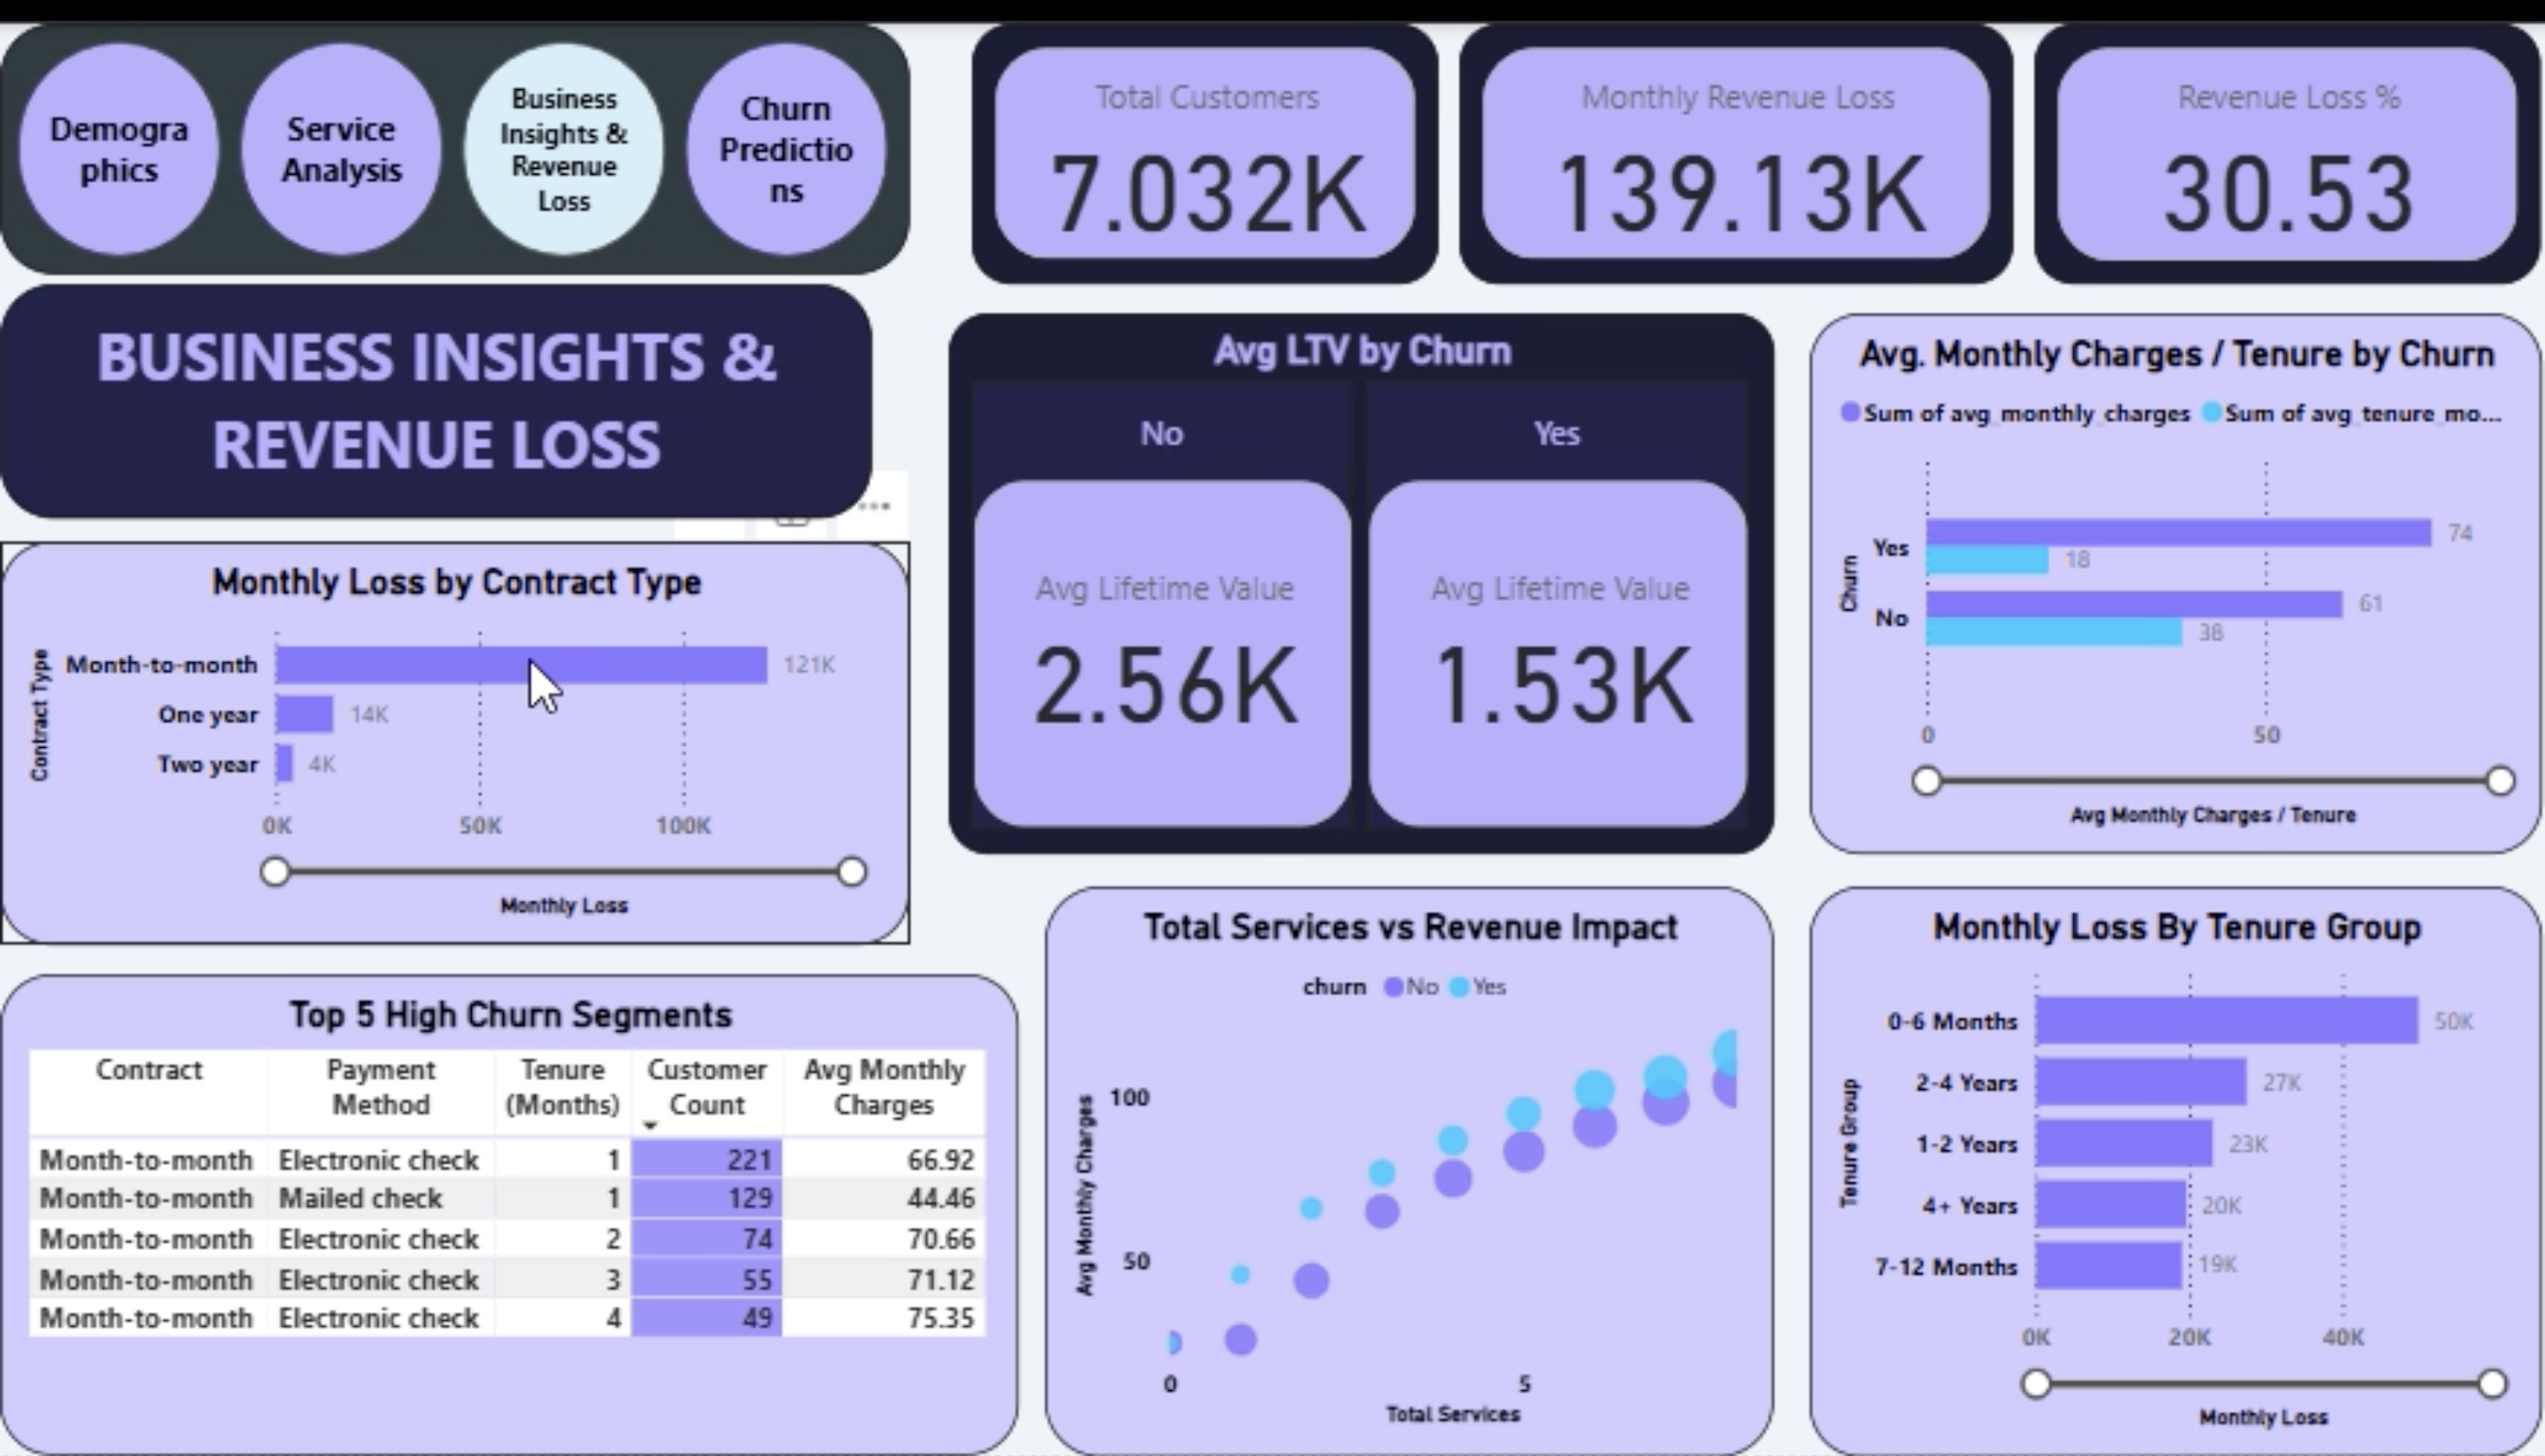

The dashboard page shown, as its layout file describes it:
{"tool":"powerbi","page":{"name":"Business Insights & Revenue Loss","canvas":[1280,720],"ordinal":2},"visuals":[{"type":"cardVisual","fields":{"Data":["Sum(total_monthly_revenue_loss.monthly_revenue_loss)"]},"box":[734.7,0,279.2,130.8],"z":0},{"type":"cardVisual","fields":{"Data":["CountNonNull(cleaned_telco_churn.customerID)"]},"box":[489.3,0,235.1,130.8],"z":1000},{"type":"cardVisual","fields":{"Data":["Sum(total_monthly_revenue_loss.revenue_loss_percentage)"]},"box":[1024.7,0,255.3,131],"z":2000},{"type":"clusteredBarChart","title":"Monthly Loss By Tenure Group","fields":{"Category":["monthly_loss_by_tenure_group.tenure_group"],"Y":["Sum(monthly_loss_by_tenure_group.monthly_loss)"]},"box":[911,433.5,368.8,286.5],"z":3000},{"type":"clusteredBarChart","title":"Monthly Loss by Contract Type","fields":{"Category":["monthly_contract_revenue_loss.contract"],"Y":["Sum(monthly_contract_revenue_loss.monthly_revenue_loss)"]},"box":[0,260.1,458.4,202.8],"z":4000},{"type":"tableEx","title":"Top 5 High Churn Segments","fields":{"Values":["top5_high_churn_segments.contract","top5_high_churn_segments.paymentmethod","top5_high_churn_segments.tenure","top5_high_churn_segments.customer_count","top5_high_churn_segments.avg_monthly_charges"]},"box":[0,477.6,512.8,242.4],"z":5000},{"type":"clusteredBarChart","title":"Avg. Monthly Charges / Tenure by Churn","fields":{"Category":["avg_monthly_total_charges_tenure.churn"],"Y":["Sum(avg_monthly_total_charges_tenure.avg_monthly_charges)","Sum(avg_monthly_total_charges_tenure.avg_tenure_months)"]},"box":[911,145.5,368.8,271.8],"z":6000},{"type":"cardVisual","title":"Avg LTV by Churn","fields":{"Data":["Sum(avg_lifetime_value_by_churn.avg_lifetime_value)"],"Rows":["avg_lifetime_value_by_churn.churn"]},"box":[477.6,145.5,415.8,271.8],"z":7000},{"type":"scatterChart","title":"Total Services vs Revenue Impact","fields":{"X":["bundle_vs_churn_charges_tenure.totalservices"],"Y":["bundle_vs_churn_charges_tenure.avg_monthly_charges"],"Size":["Sum(bundle_vs_churn_charges_tenure.avg_tenure)"],"Series":["bundle_vs_churn_charges_tenure.churn"]},"box":[526,433.5,367.3,286.5],"z":8000},{"type":"textbox","box":[0,130.8,439.3,117.6],"z":9000},{"type":"pageNavigator","box":[0,0,458.4,126.4],"z":9001}]}

Visuals, with their boxes in screenshot pixels (x1, y1, x2, y2), scaled from the page's 1280x720 canvas onto the 2545x1456 screenshot:
cardVisual - Sum(total_monthly_revenue_loss.monthly_revenue_loss): 1461:0:2016:265
cardVisual - CountNonNull(cleaned_telco_churn.customerID): 973:0:1440:265
cardVisual - Sum(total_monthly_revenue_loss.revenue_loss_percentage): 2038:0:2544:265
"Monthly Loss By Tenure Group" clusteredBarChart: 1811:877:2544:1455
"Monthly Loss by Contract Type" clusteredBarChart: 0:526:912:936
"Top 5 High Churn Segments" tableEx: 0:966:1020:1455
"Avg. Monthly Charges / Tenure by Churn" clusteredBarChart: 1811:294:2544:844
"Avg LTV by Churn" cardVisual: 950:294:1776:844
"Total Services vs Revenue Impact" scatterChart: 1046:877:1776:1455
textbox: 0:265:873:502
pageNavigator: 0:0:912:255
